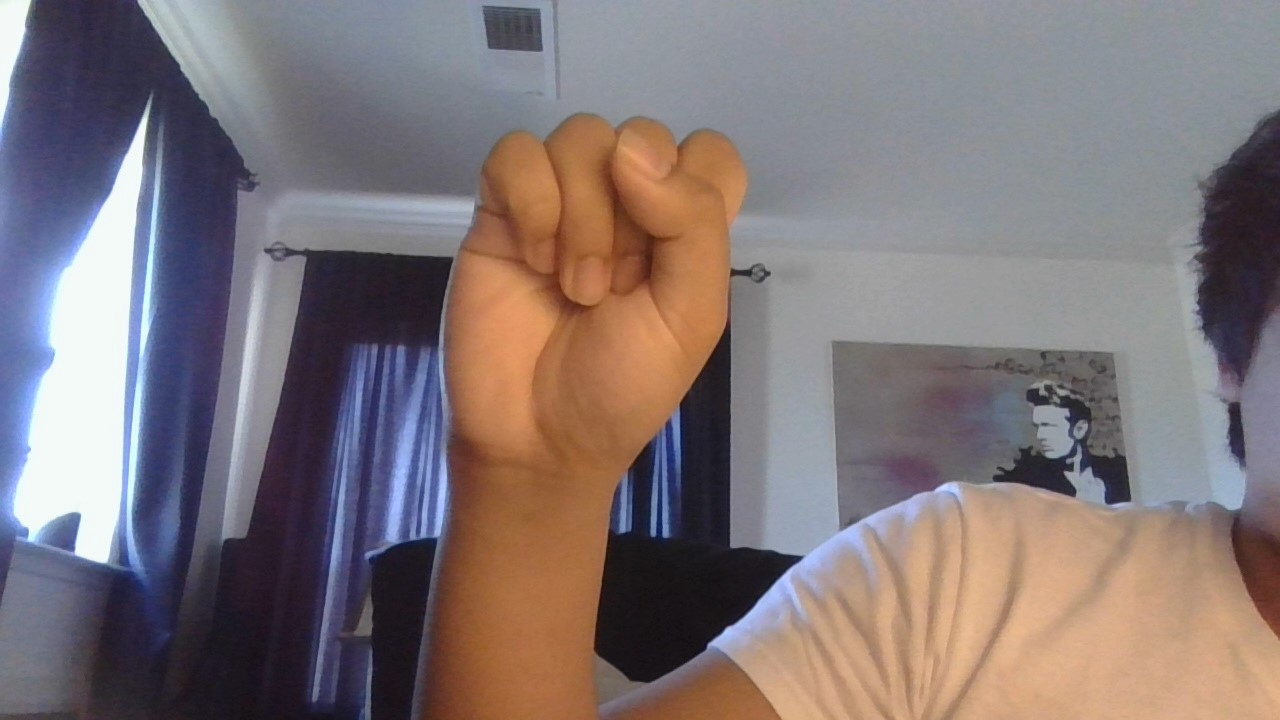s: (400, 101, 797, 485)
